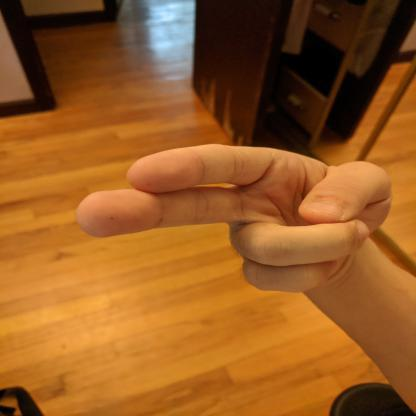H: (70, 140, 396, 297)
